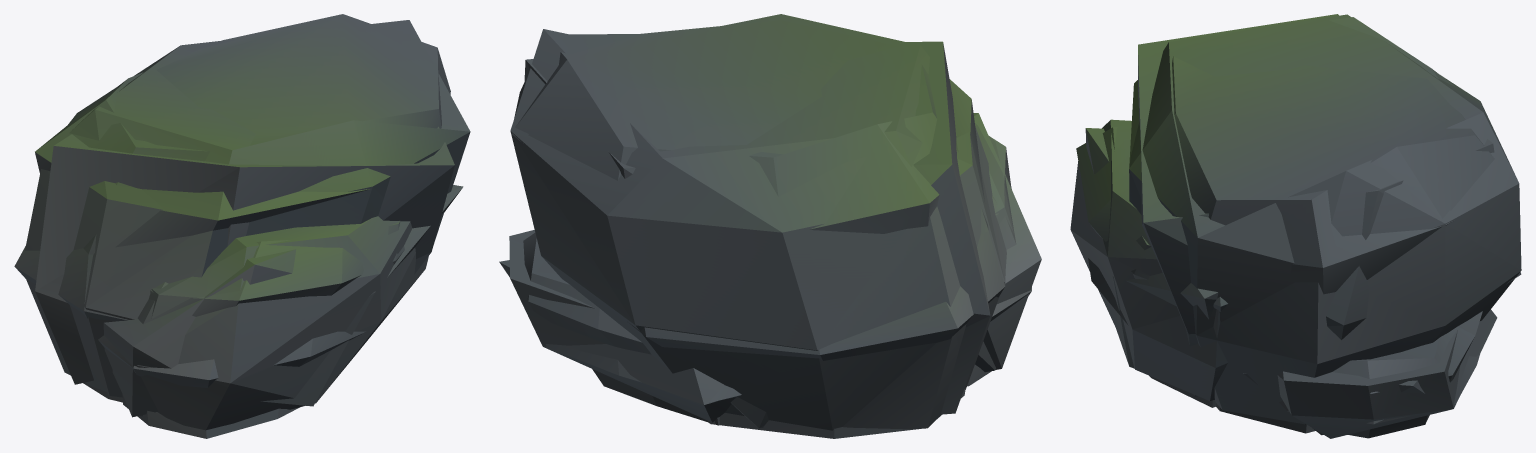
The model's file is BoulderC.glb.
3 renders of one model, left to right at view 1: azimuth 30°, elevation 25°; view 2: azimuth 150°, elevation 25°; view 3: azimuth 270°, elevation 25°, orthographic. The views are drawn at different scales.
Visible parts, largest first — view 1: BoulderC_L1, BoulderC_L0, BoulderC_L2; view 2: BoulderC_L1, BoulderC_L0, BoulderC_L2; view 3: BoulderC_L1, BoulderC_L0, BoulderC_L2.
Part boxes in pixels (box(x1,y1,x2,y2)): BoulderC_L1: box(25, 20, 470, 430); BoulderC_L0: box(14, 14, 450, 438); BoulderC_L2: box(35, 126, 463, 417); BoulderC_L1: box(509, 14, 1013, 430); BoulderC_L0: box(511, 20, 1031, 438); BoulderC_L2: box(499, 41, 1041, 428); BoulderC_L1: box(1070, 14, 1521, 438); BoulderC_L0: box(1076, 17, 1521, 438); BoulderC_L2: box(1085, 14, 1494, 435).
Size of the model in its own units: 1.21 by 0.75 by 1.01.
